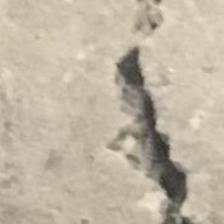Crack: (97, 0, 224, 224)
